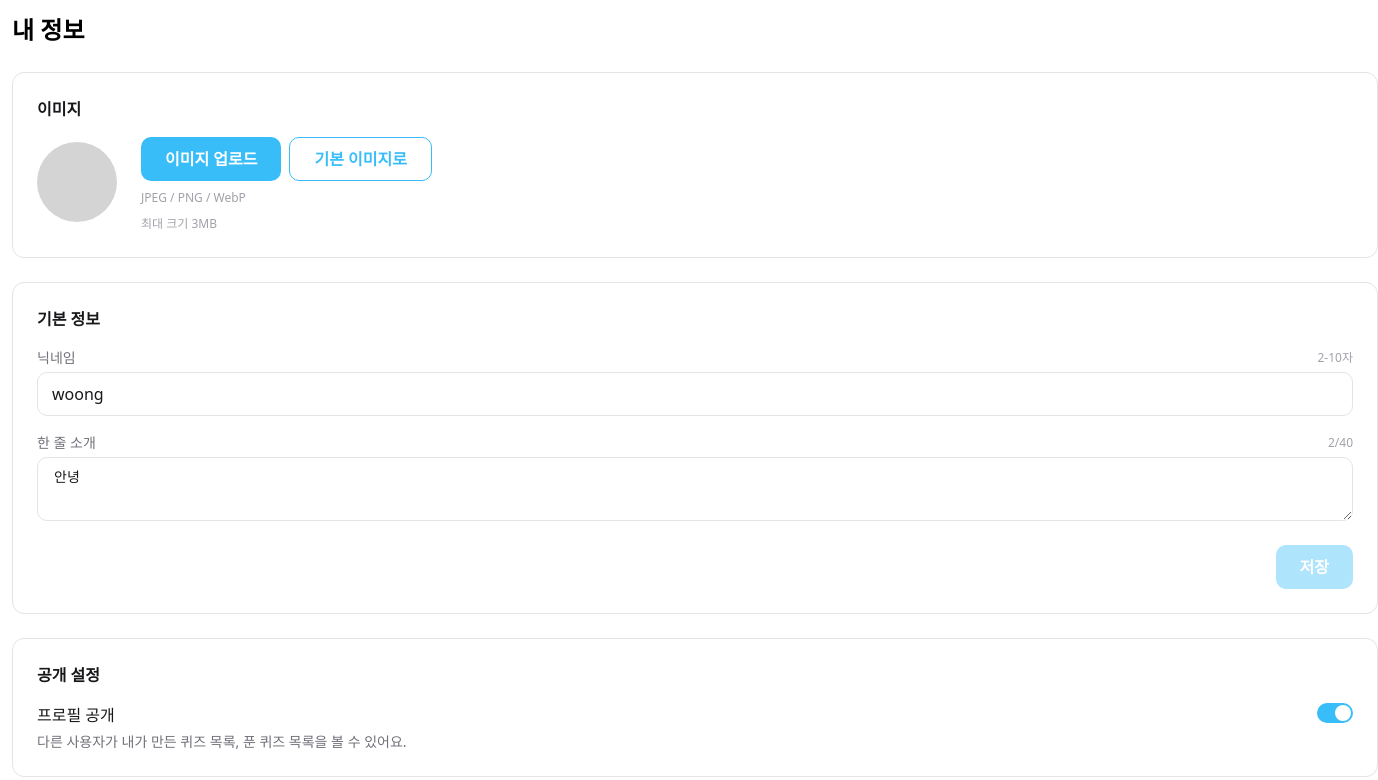
Test: ProfileInfo › 저장 버튼 활성 조건 › bio 변경 + nicknameCheck.status=idle(닉네임 미변경) 이면 저장 버튼 활성
Replace the text in the text box with placeholder "자신을 소개해주세요" with "새 소개" at (695, 489), box x1=37 y1=457 x2=1353 y2=521
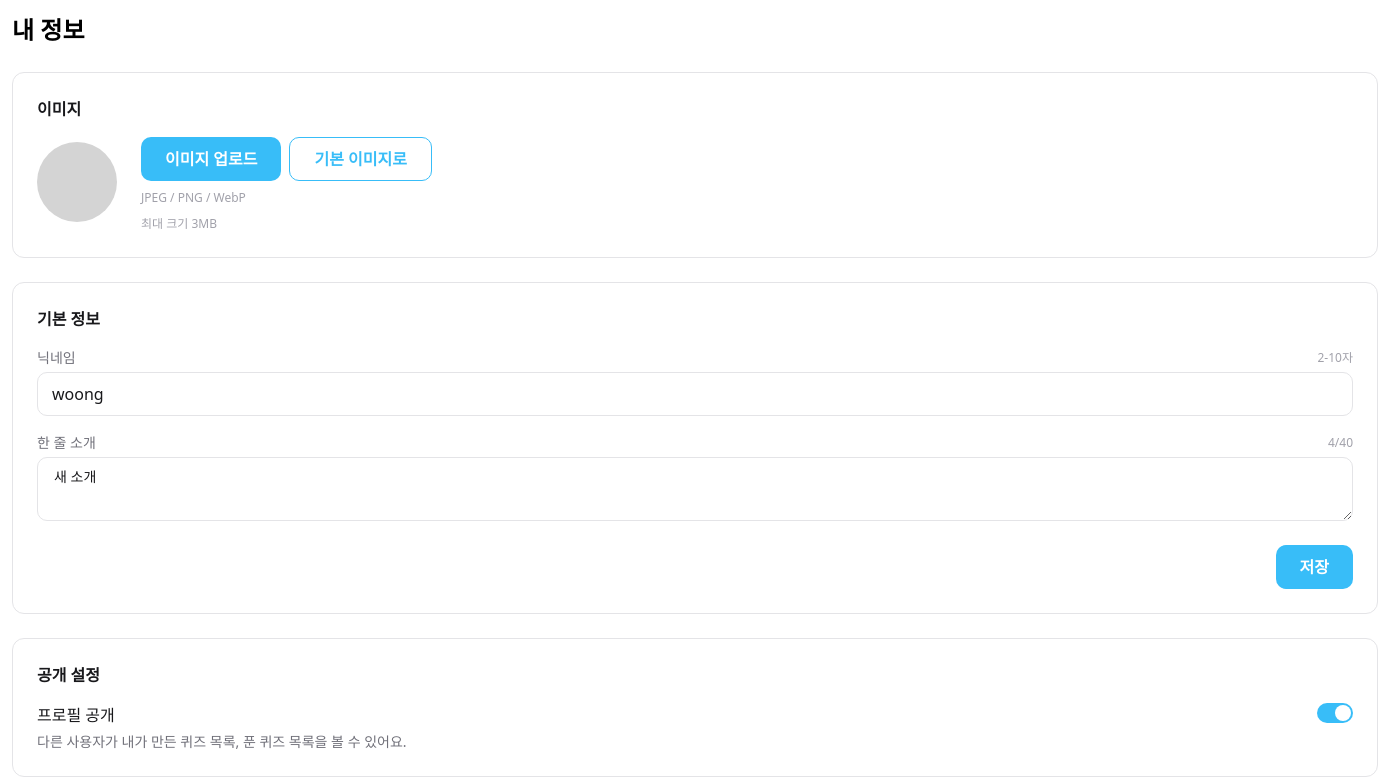
Result: the button "저장" is enabled at x1=1276 y1=545 x2=1353 y2=589
